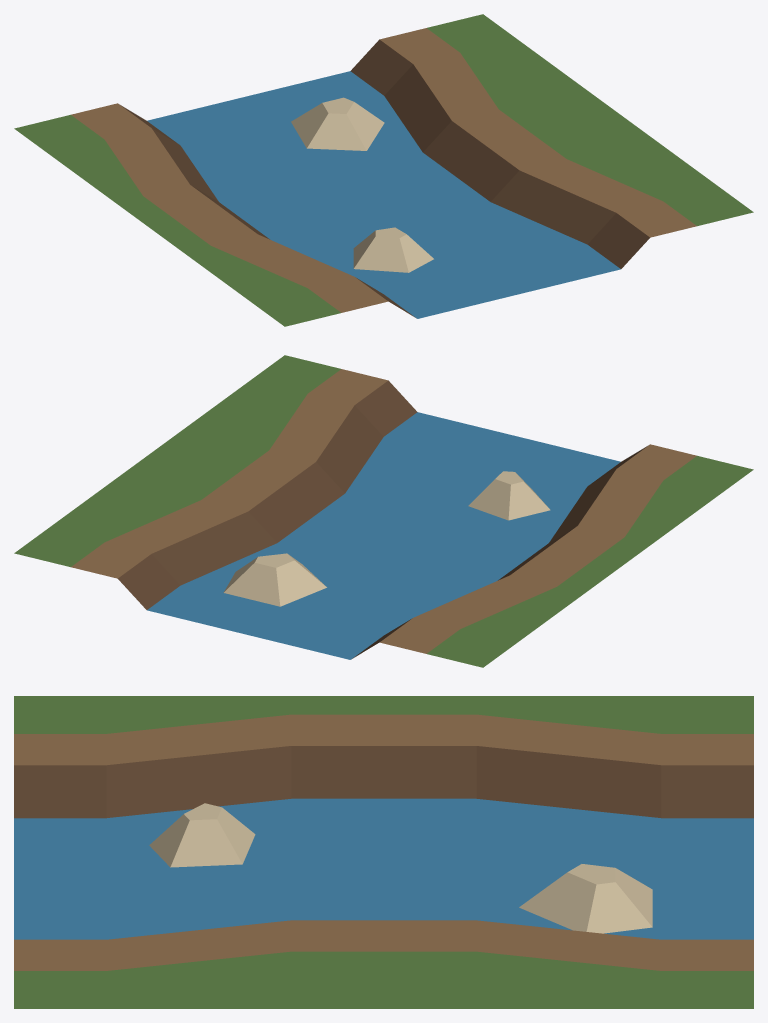
File: rain-garden.glb
3 views of the same model, one above another, from view 1: azimuth 30°, elevation 25°; view 2: azimuth 150°, elevation 25°; view 3: azimuth 270°, elevation 25° (orthographic). The views are drawn at different scales.
Parts seen in each view (by area): view 1: ground_riverRocks; view 2: ground_riverRocks; view 3: ground_riverRocks.
Part boxes in pixels (x1,y1,x2,y2): ground_riverRocks: [14, 14, 753, 326]; ground_riverRocks: [14, 355, 753, 667]; ground_riverRocks: [14, 696, 753, 1008].
Bounding box in the file's own units: 6.32 × 0.3165 × 6.32.
